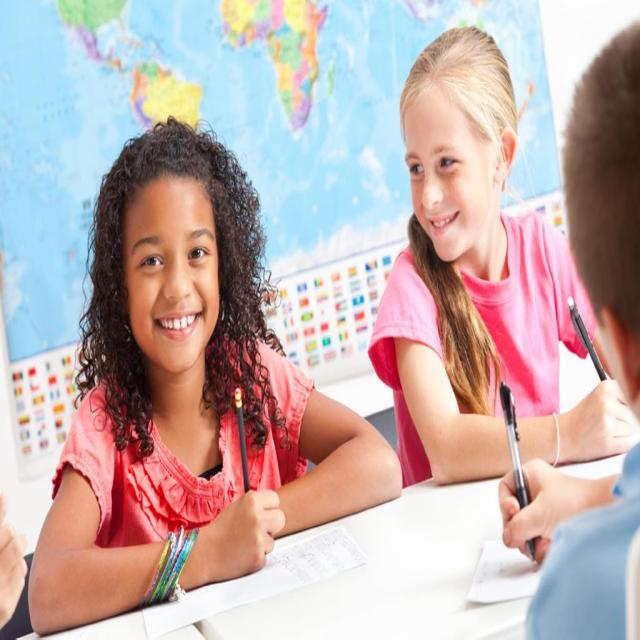Face: (118, 181, 228, 377), (398, 82, 506, 278)
